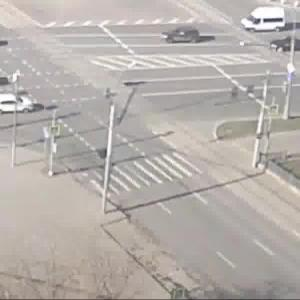car: (241, 8, 294, 31), (1, 92, 40, 115), (163, 25, 200, 47), (269, 37, 300, 52)
